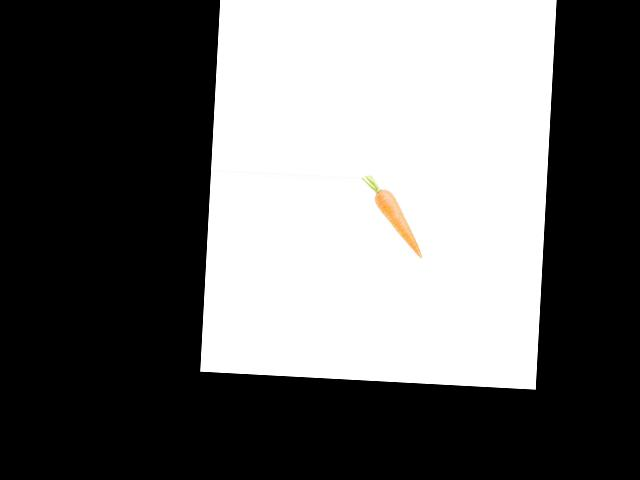carrot: (370, 184, 427, 259)
